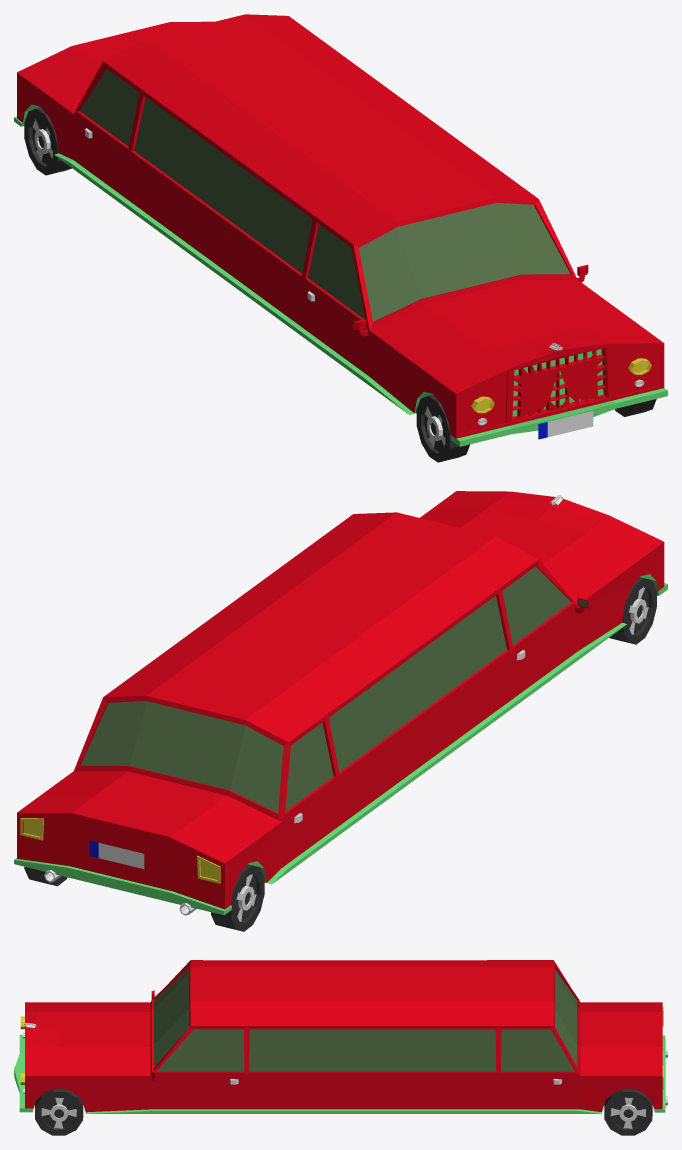
The model's file is limuzin.fbx.
3 renders of one model, top to bottom at view 1: azimuth 30°, elevation 25°; view 2: azimuth 150°, elevation 25°; view 3: azimuth 270°, elevation 25°, orthographic. The views are drawn at different scales.
Parts seen in each view (by area): view 1: body, on_teker, arka_teker; view 2: body, arka_teker, on_teker; view 3: body, arka_teker, on_teker.
Part boxes in pixels (x1,y1,x2,y2): body: [14, 14, 667, 446]; on_teker: [416, 394, 656, 462]; arka_teker: [24, 107, 71, 175]; body: [14, 491, 667, 915]; arka_teker: [24, 864, 264, 931]; on_teker: [609, 577, 656, 644]; body: [14, 960, 667, 1113]; arka_teker: [604, 1088, 652, 1135]; on_teker: [35, 1088, 83, 1135].
Bounding box in the file's own units: 417 × 268 × 1384.
